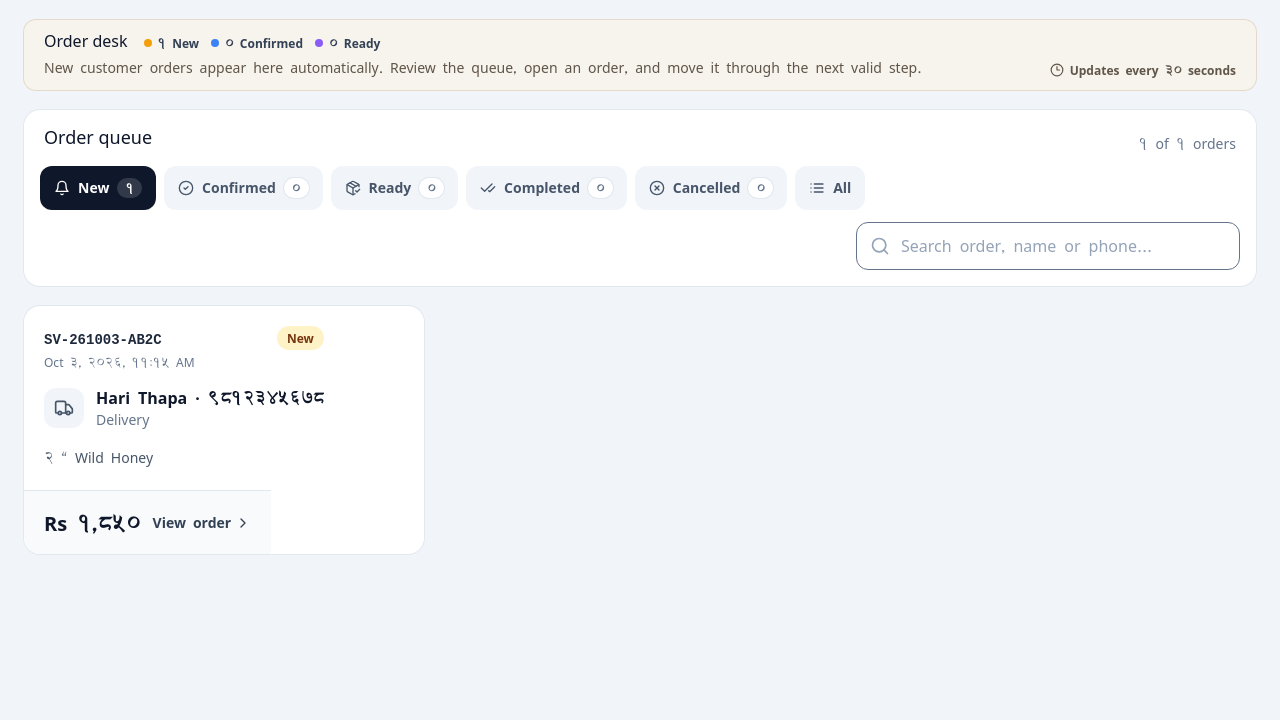
OnlineOrdersPage › lets a manager cancel with a reason, and shows the server message when a step fails
The width and height of the screenshot is (1280, 720).
Click the button with test id "order-row" at (103, 340), box x1=24 y1=306 x2=424 y2=554
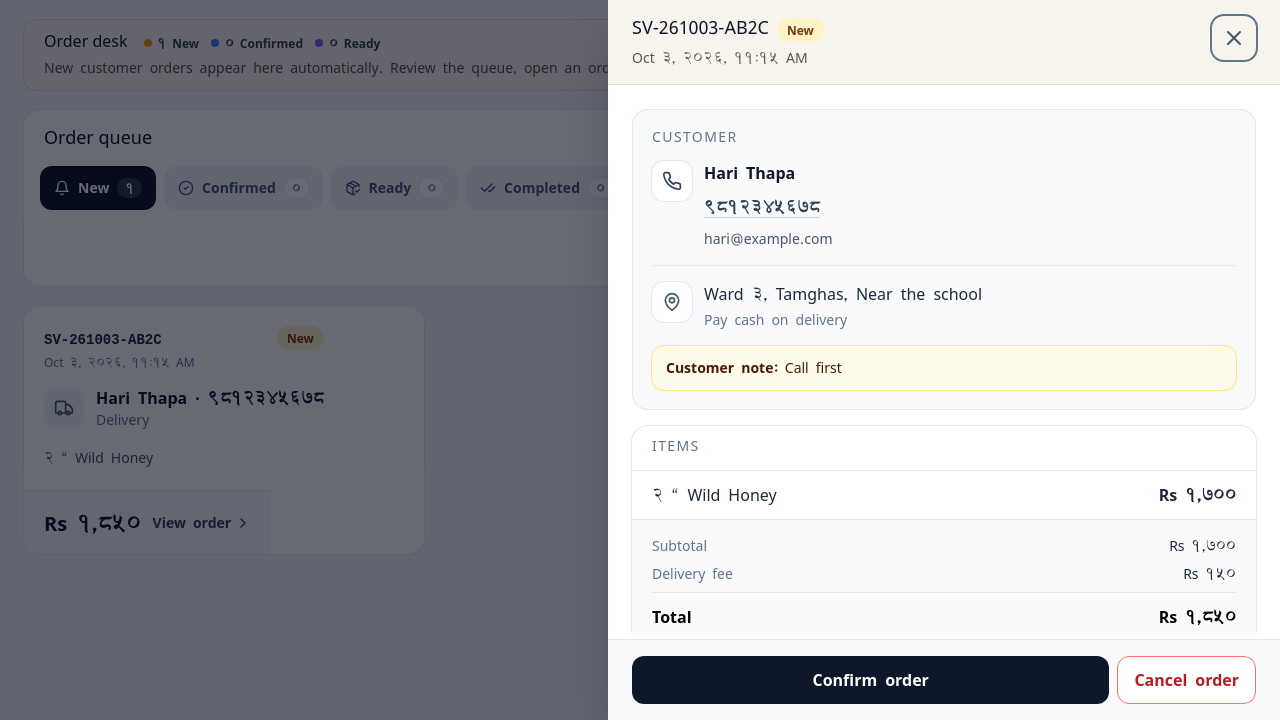
Click the button "Cancel order" at (1187, 680), box x1=1117 y1=656 x2=1256 y2=704
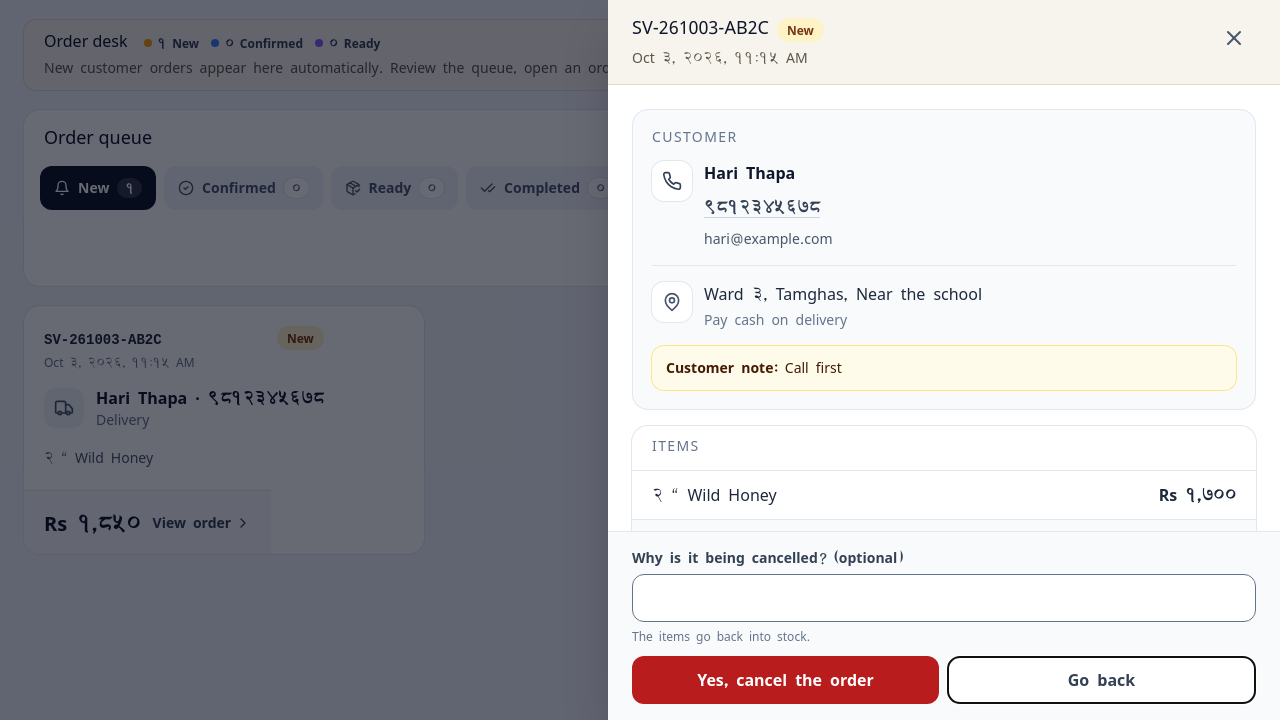
Type "No answer" into the field labelled "Why is it being cancelled? (optional)" at (944, 598), box x1=632 y1=574 x2=1256 y2=622
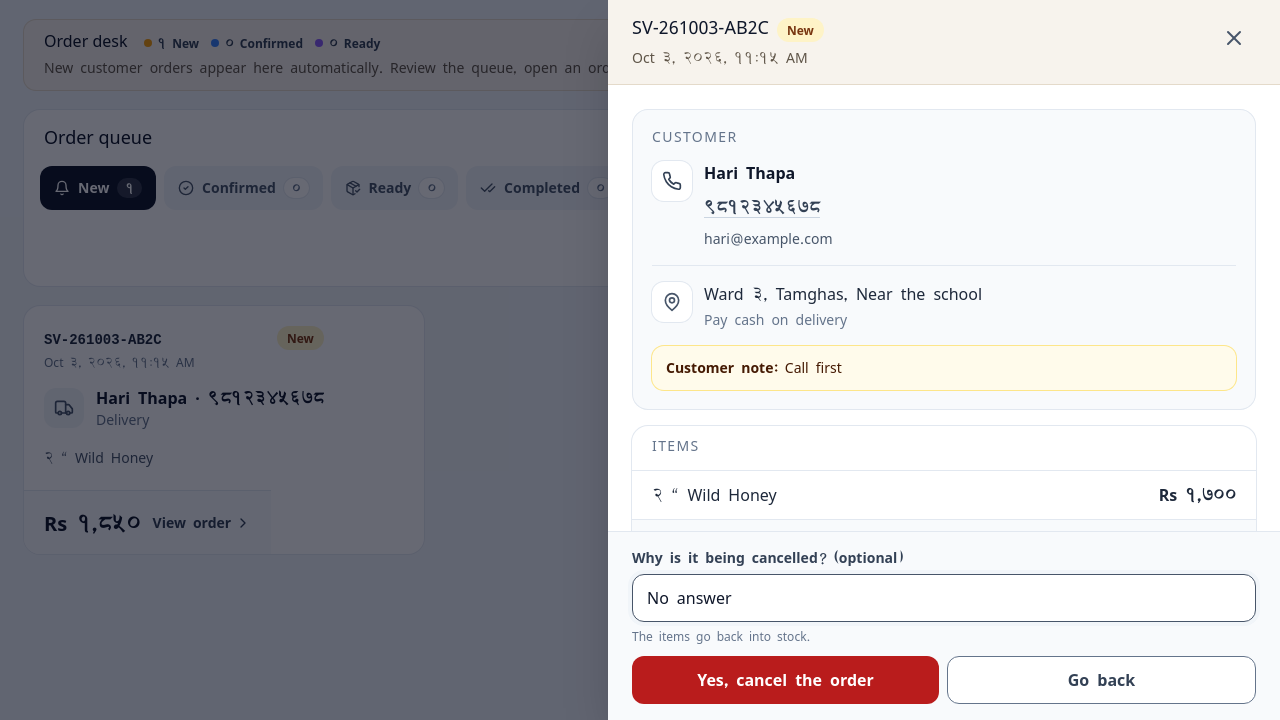
Click the button "Yes, cancel the order" at (786, 680), box x1=632 y1=656 x2=939 y2=704
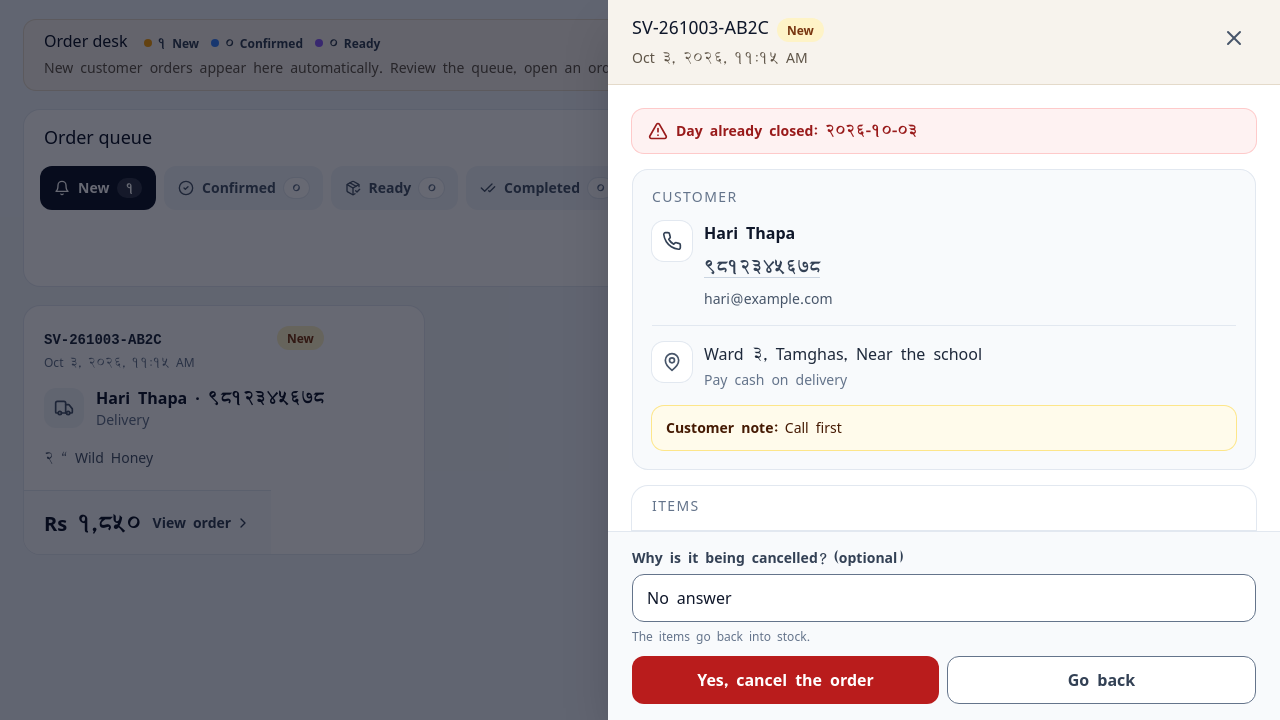
Check: the message shows "Day already closed", box x1=676 y1=119 x2=918 y2=142
Click the button "Yes, cancel the order" at (786, 680), box x1=632 y1=656 x2=939 y2=704
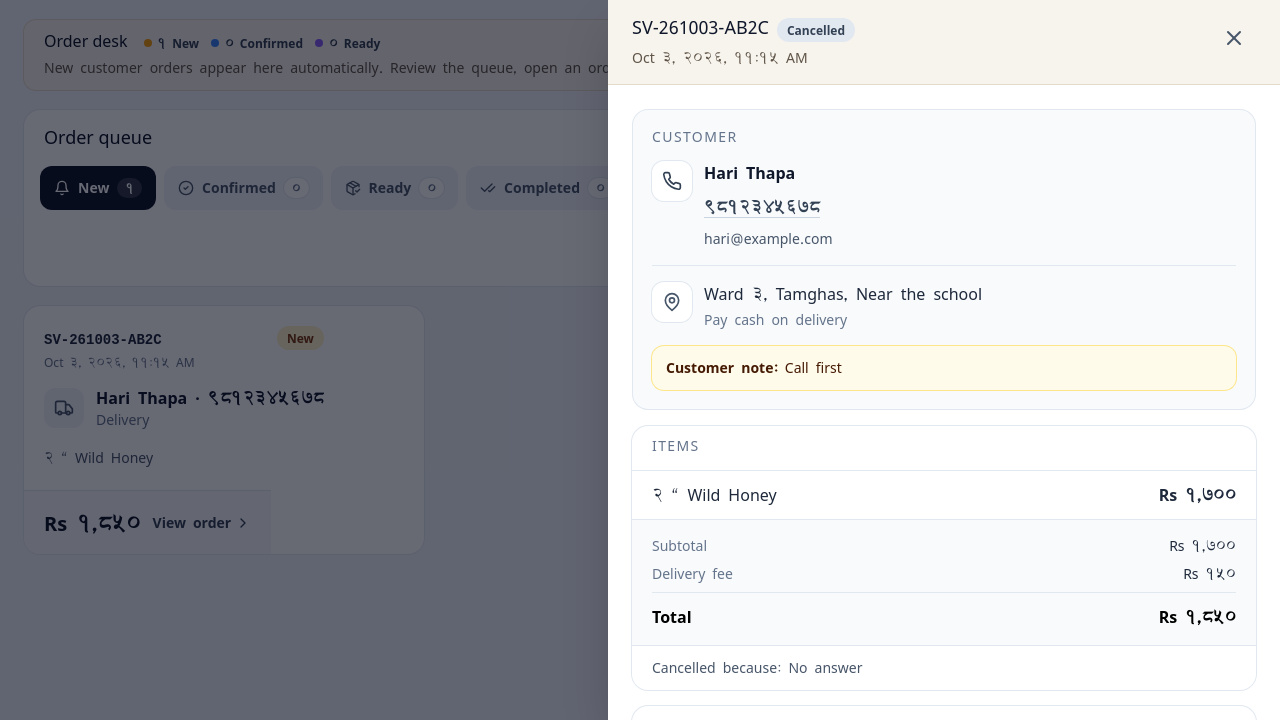
Check: the text "Cancelled because: No answer" is shown, box x1=632 y1=645 x2=1256 y2=690
